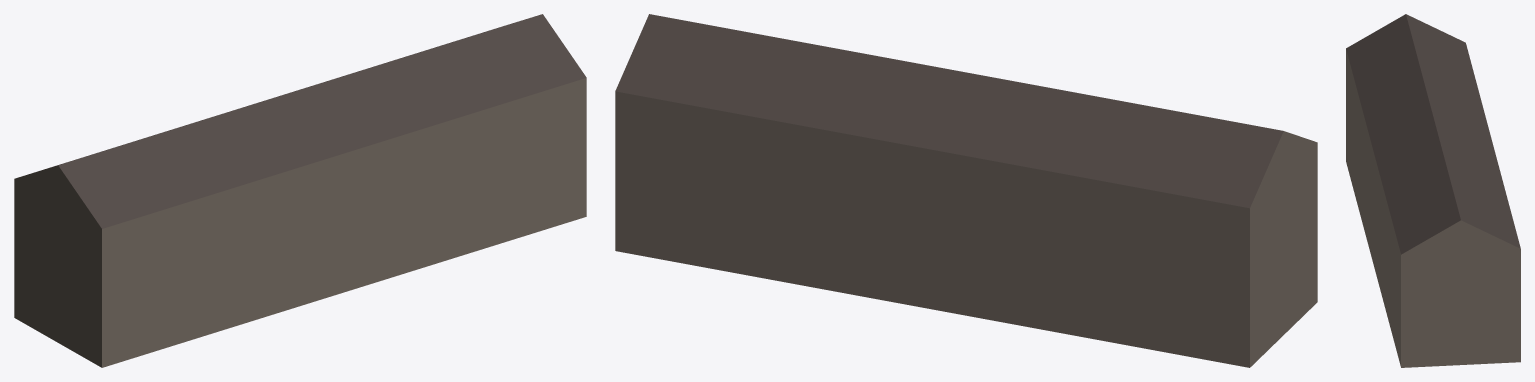
3 views of the same model, side by side, from view 1: azimuth 30°, elevation 25°; view 2: azimuth 150°, elevation 25°; view 3: azimuth 270°, elevation 25° (orthographic). The views are drawn at different scales.
Visible parts, largest first — view 1: HP-w449041506; view 2: HP-w449041506; view 3: HP-w449041506.
Part boxes in pixels (<box>): HP-w449041506: <box>14,14,586,367</box>; HP-w449041506: <box>615,14,1317,367</box>; HP-w449041506: <box>1346,14,1520,367</box>.
Size of the model in its own units: 36.13 by 11.51 by 12.6.
